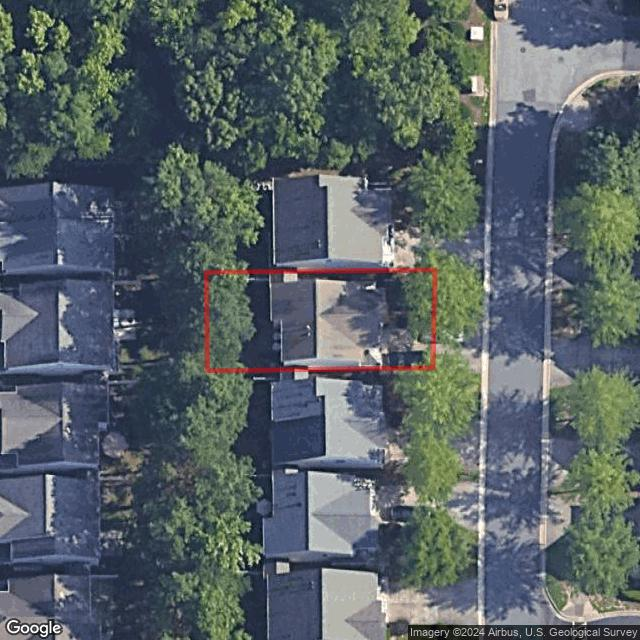Driveway: (377, 320, 435, 357)
Extra-Driveway: (434, 321, 482, 359)
Extra-Lawn: (434, 270, 484, 326), (432, 356, 483, 372)
House: (268, 280, 387, 368)
Lawn: (205, 269, 436, 371)
